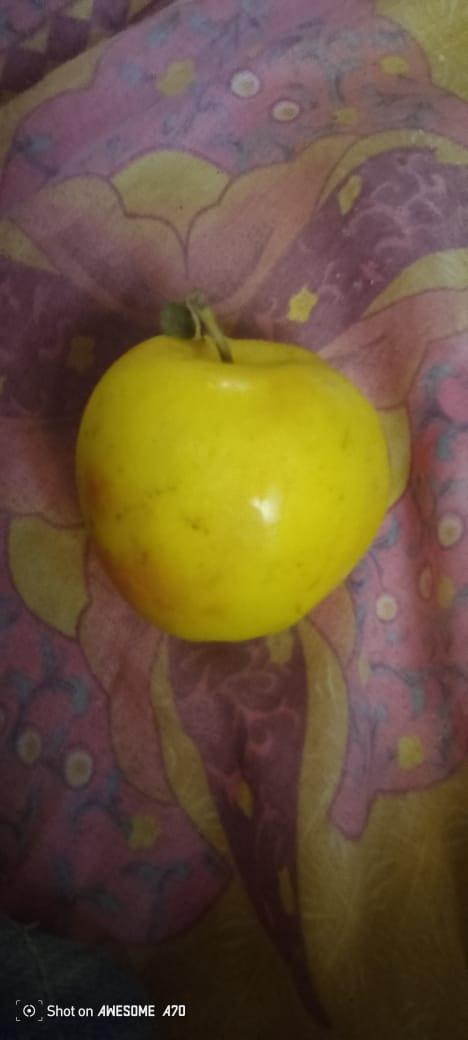non-mango: (73, 338, 384, 641)
